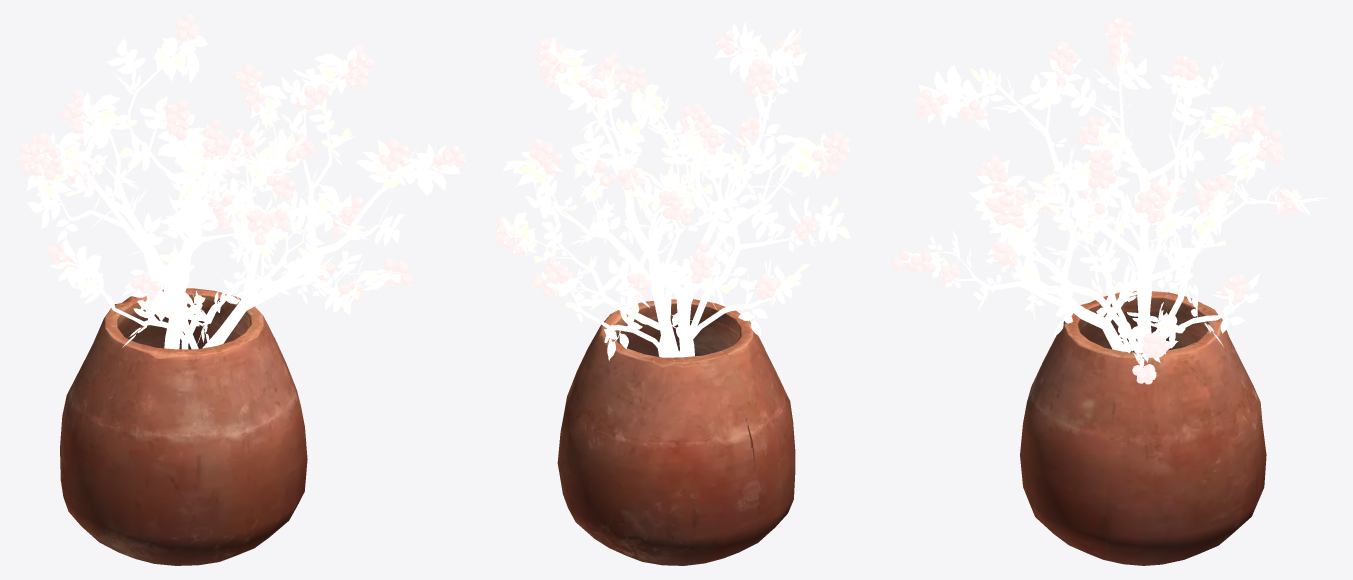
3 views of the same model, side by side, from view 1: azimuth 30°, elevation 25°; view 2: azimuth 150°, elevation 25°; view 3: azimuth 270°, elevation 25° (orthographic). The views are drawn at different scales.
Parts seen in each view (by area): view 1: SM_Dec_Pot_Dwellberry_Bush_2_LOD0; view 2: SM_Dec_Pot_Dwellberry_Bush_2_LOD0; view 3: SM_Dec_Pot_Dwellberry_Bush_2_LOD0.
Boxes of the visible parts, x1=… form: SM_Dec_Pot_Dwellberry_Bush_2_LOD0: x1=19, y1=15, x2=465, y2=565; SM_Dec_Pot_Dwellberry_Bush_2_LOD0: x1=494, y1=22, x2=850, y2=565; SM_Dec_Pot_Dwellberry_Bush_2_LOD0: x1=891, y1=17, x2=1328, y2=565.
Size of the model in its own units: 0.4874 by 0.6411 by 0.5146.
Materials: 2 (2 with a texture image).
